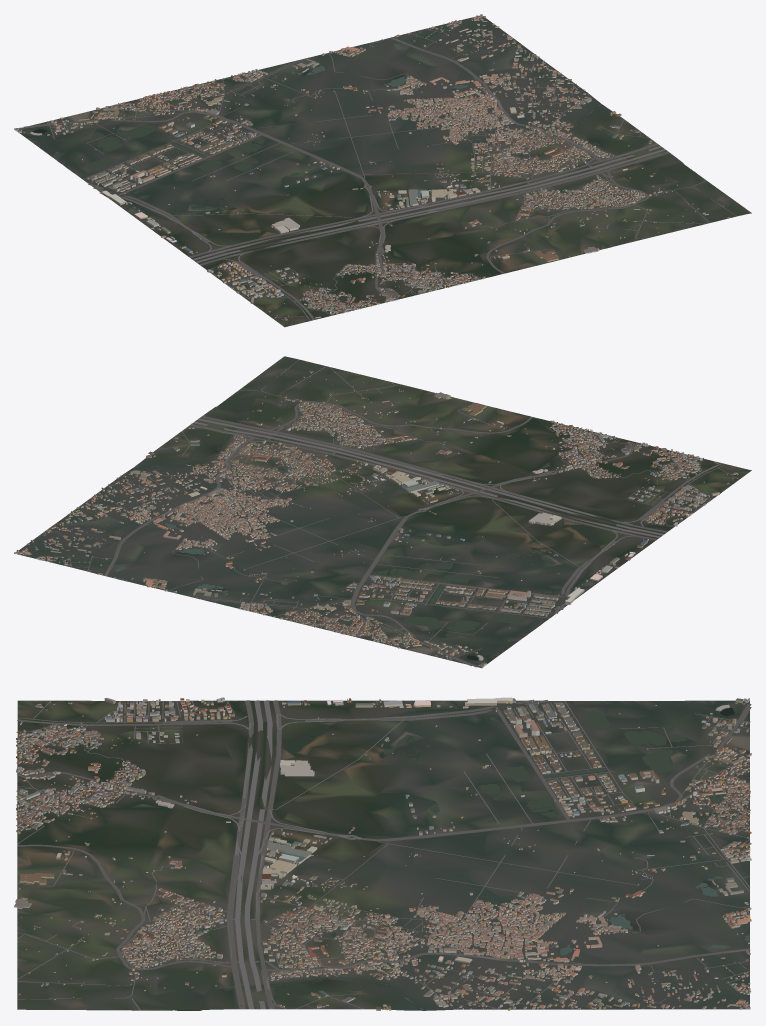
3 renders of one model, top to bottom at view 1: azimuth 30°, elevation 25°; view 2: azimuth 150°, elevation 25°; view 3: azimuth 270°, elevation 25°, orthographic. The views are drawn at different scales.
Parts seen in each view (by area): view 1: ground, buildings, roads, water; view 2: ground, buildings, roads, water; view 3: ground, buildings, roads, water.
Boxes of the visible parts, x1=… form: ground: x1=17, y1=16, x2=751, y2=327; buildings: x1=14, y1=14, x2=730, y2=320; roads: x1=19, y1=25, x2=736, y2=320; water: x1=32, y1=41, x2=691, y2=238; ground: x1=17, y1=356, x2=751, y2=667; buildings: x1=14, y1=361, x2=738, y2=668; roads: x1=38, y1=360, x2=739, y2=667; water: x1=95, y1=401, x2=602, y2=660; ground: x1=17, y1=700, x2=749, y2=1010; buildings: x1=14, y1=697, x2=751, y2=1010; roads: x1=17, y1=699, x2=751, y2=1010; water: x1=180, y1=701, x2=749, y2=1010.
Size of the model in its own units: 2823 by 35 by 2825.
